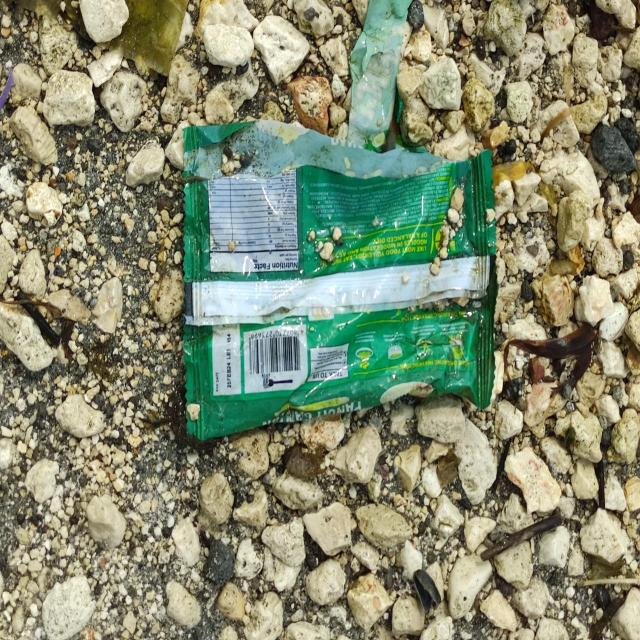plastic_waste: (180, 120, 500, 443)
